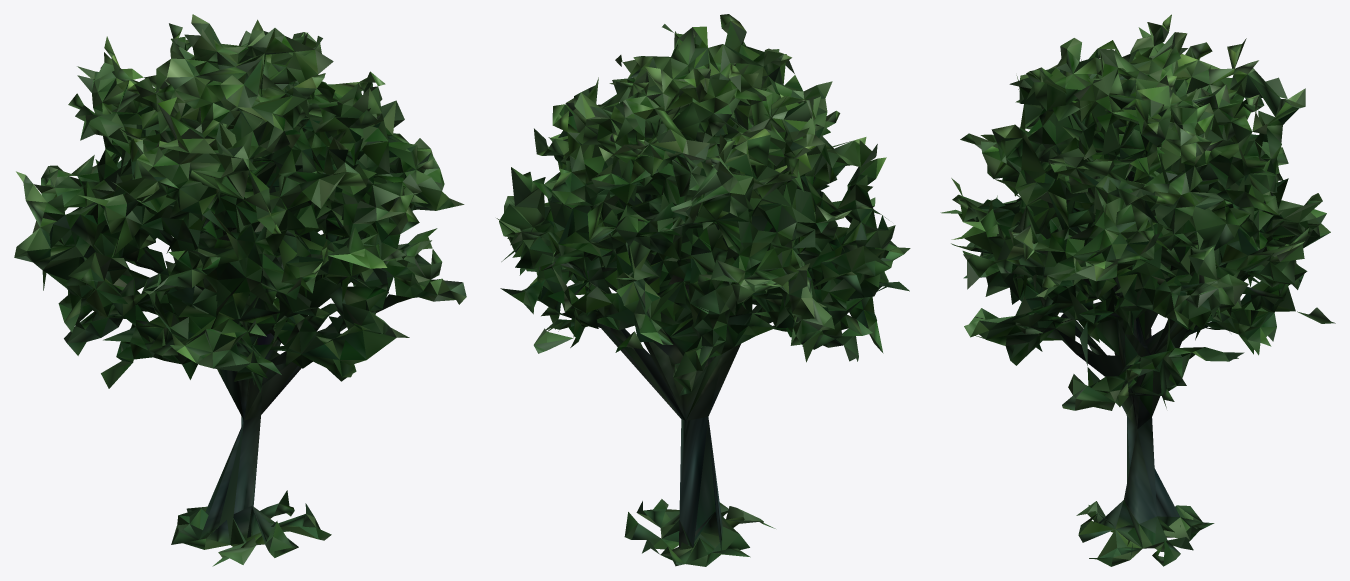
The model's file is tree_c.glb.
3 views of the same model, side by side, from view 1: azimuth 30°, elevation 25°; view 2: azimuth 150°, elevation 25°; view 3: azimuth 270°, elevation 25° (orthographic). The views are drawn at different scales.
Parts seen in each view (by area): view 1: TreeC; view 2: TreeC; view 3: TreeC.
Boxes of the visible parts, x1,y1,x2,y2 form: TreeC: (14,14,466,566); TreeC: (496,14,910,566); TreeC: (940,14,1335,566).
Size of the model in its own units: 4.87 by 6.4 by 4.62.
Materials: 1 (1 with a texture image).
